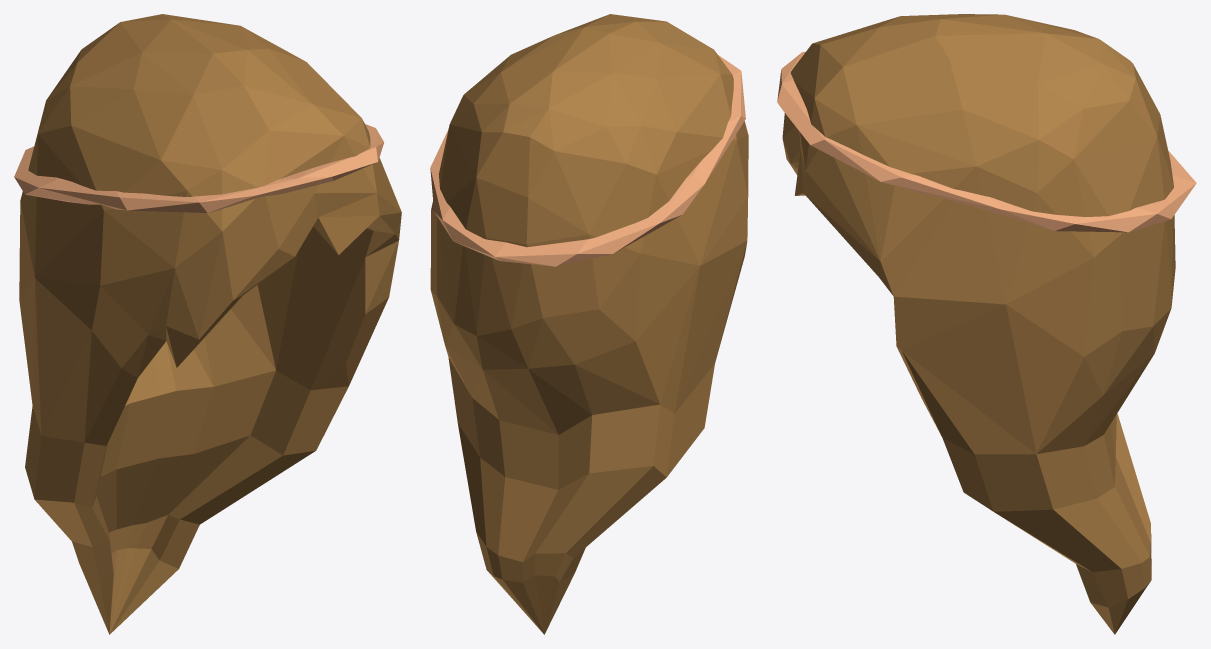
The model's file is VikingGirl_Hair_A.fbx.
3 views of the same model, side by side, from view 1: azimuth 30°, elevation 25°; view 2: azimuth 150°, elevation 25°; view 3: azimuth 270°, elevation 25° (orthographic). The views are drawn at different scales.
Visible parts, largest first — view 1: VikingGirl_Hair_A; view 2: VikingGirl_Hair_A; view 3: VikingGirl_Hair_A.
Part boxes in pixels (left/top/right/bottom): VikingGirl_Hair_A: left=14, top=14, right=401, bottom=634; VikingGirl_Hair_A: left=430, top=14, right=748, bottom=634; VikingGirl_Hair_A: left=777, top=14, right=1196, bottom=634.
Size of the model in its own units: 19.99 by 40.29 by 24.62.
